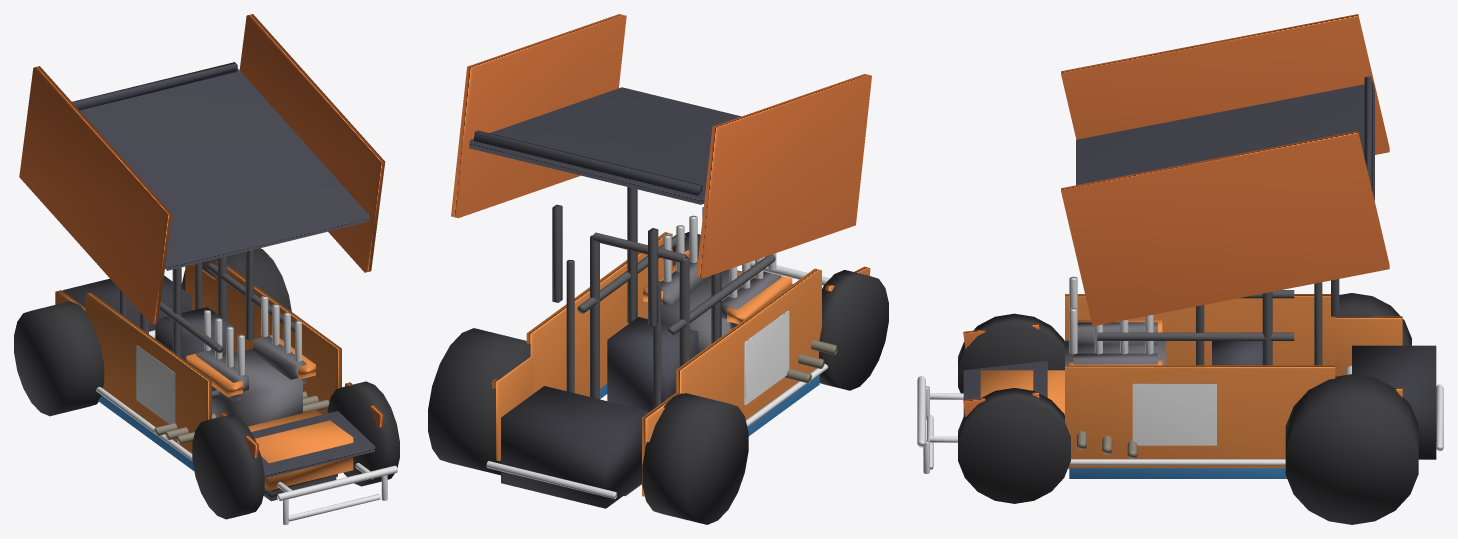
The model's file is sprint_car.glb.
3 views of the same model, side by side, from view 1: azimuth 30°, elevation 25°; view 2: azimuth 150°, elevation 25°; view 3: azimuth 270°, elevation 25° (orthographic). The views are drawn at different scales.
Parts seen in each view (by area): view 1: foil, sbL, sbR, RLt, sideL, FLt, sideR, nose, eng, FRt, ff, numL (+17 smaller); view 2: sbL, sbR, foil, fuel, RLt, RRt, sideL, sideR, FLt, seat, numL, wick (+20 smaller); view 3: sbR, sbL, sideR, RRt, foil, FRt, sideL, numR, fuel, FLt, qtrL, rockR (+13 smaller).
Part boxes in pixels (x1,y1,x2,y2): foil: (80,68,369,270); sbL: (19,66,171,324); sbR: (239,14,385,272); RLt: (14,301,104,416); sideL: (85,292,211,453); FLt: (192,414,264,519); sideR: (215,261,341,414); nose: (248,410,353,490); eng: (212,349,302,426); FRt: (327,381,399,486); ff: (251,411,375,478); numL: (136,345,175,424); sbL: (696,74,871,277); sbR: (451,14,626,218); foil: (469,87,741,204); fuel: (501,386,648,508); RLt: (642,393,748,524); RRt: (428,328,530,475); sideL: (676,268,821,419); sideR: (526,232,672,396); FLt: (819,270,888,390); seat: (607,317,698,411); numL: (744,310,789,404); wick: (473,130,702,195); sbR: (1061,131,1389,326); sbL: (1061,14,1389,154); sideR: (1065,365,1335,468); RRt: (1285,374,1418,524); foil: (1076,83,1374,200); FRt: (958,388,1070,503); sideL: (1065,294,1335,365); numR: (1132,383,1216,445); fuel: (1352,345,1436,459); FLt: (958,313,1064,393); qtrL: (1322,316,1402,376); rockR: (1069,468,1287,478).
Size of the model in its own units: 1.43 by 2.07 by 2.56.
